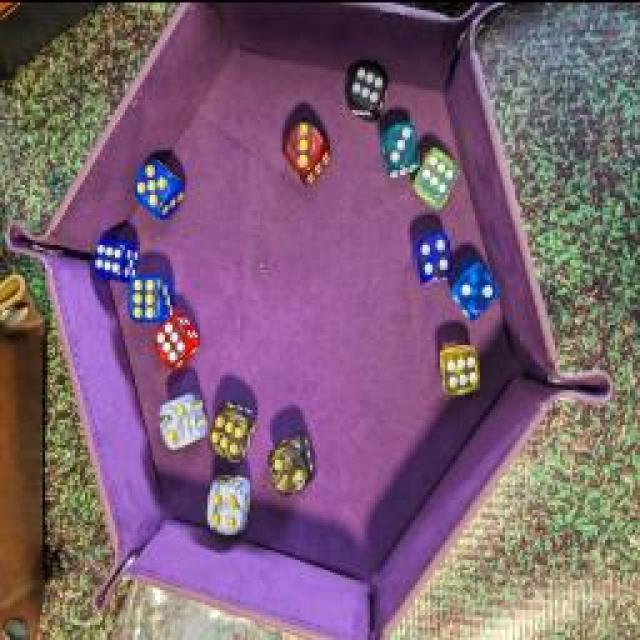dice_2: (265, 428, 320, 502), (155, 385, 210, 455), (450, 259, 500, 321)
dice_3: (278, 107, 334, 185), (375, 115, 420, 180)
dice_4: (202, 464, 258, 538), (408, 226, 454, 289)
dice_5: (128, 154, 184, 216)
dice_6: (206, 394, 259, 464), (149, 309, 201, 376), (408, 151, 464, 211), (126, 262, 176, 328), (435, 335, 485, 395), (91, 228, 139, 288), (348, 58, 388, 122)
